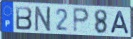2: (56, 8, 70, 32)
8: (93, 9, 109, 35)
A: (109, 10, 131, 35)
B: (15, 5, 34, 31)
N: (34, 6, 53, 33)
P: (72, 7, 91, 35)
